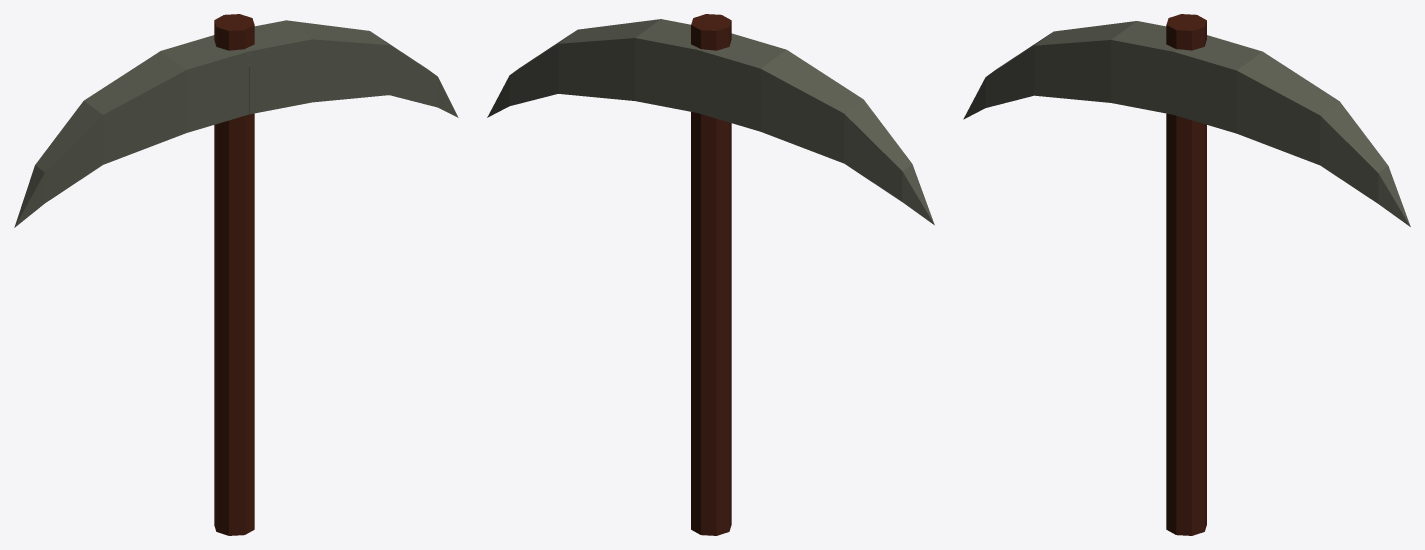
Rendered from Pickaxe.fbx.
3 views of the same model, side by side, from view 1: azimuth 30°, elevation 25°; view 2: azimuth 150°, elevation 25°; view 3: azimuth 330°, elevation 25° (orthographic).
Visible parts, largest first — view 1: Cube.001, Cylinder; view 2: Cube.001, Cylinder; view 3: Cube.001, Cylinder.
Boxes of the visible parts, x1,y1,x2,y2 form: Cube.001: (14,20,458,227); Cylinder: (214,14,254,535); Cube.001: (487,19,934,225); Cylinder: (691,14,731,535); Cube.001: (963,21,1410,226); Cylinder: (1166,14,1206,535).
Size of the model in its own units: 370 by 37.36 by 400.
